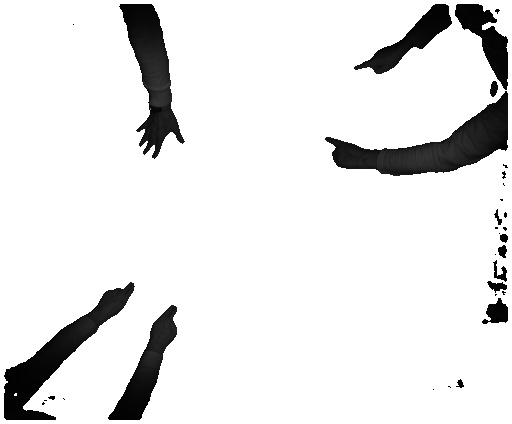hand: (136, 112, 191, 159), (352, 38, 403, 79), (91, 280, 135, 323), (320, 136, 368, 175), (147, 304, 183, 350), (352, 40, 390, 79)
